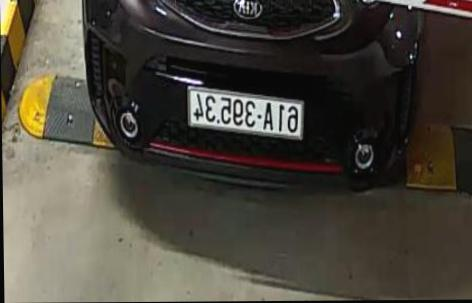License_Plate: (180, 83, 308, 144)
